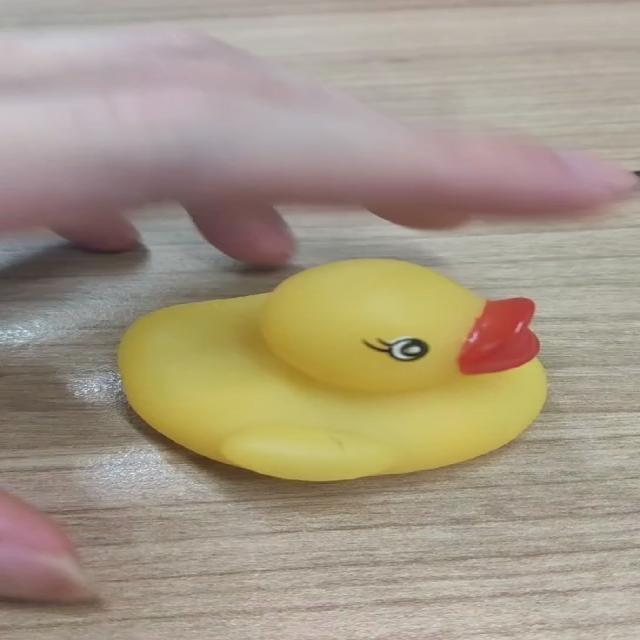rubber-duck: (118, 258, 545, 479)
